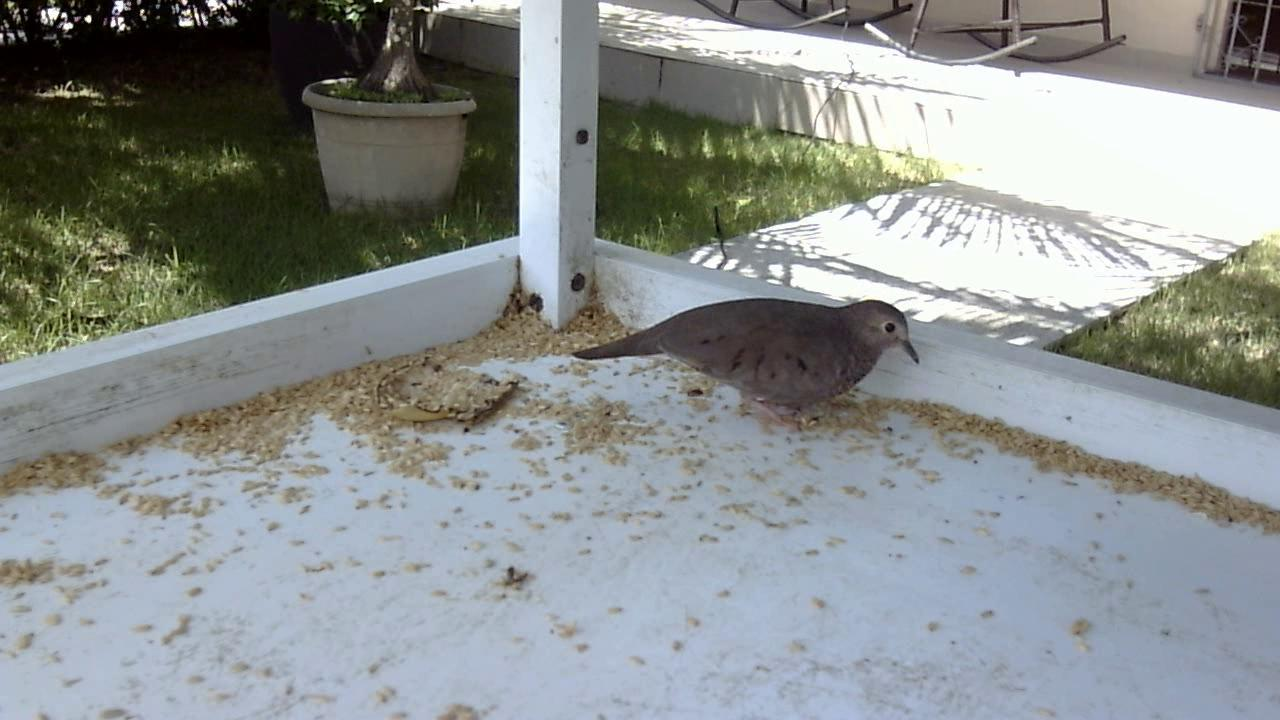rolinha: (567, 283, 925, 439)
